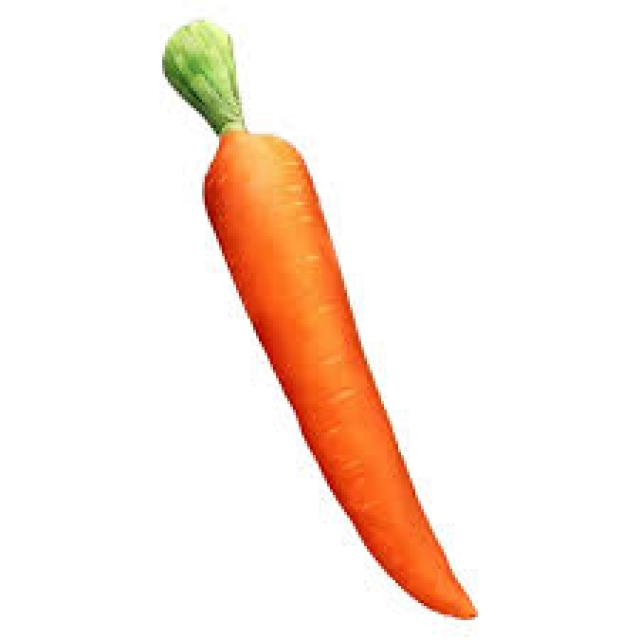carrot: (159, 120, 478, 620)
